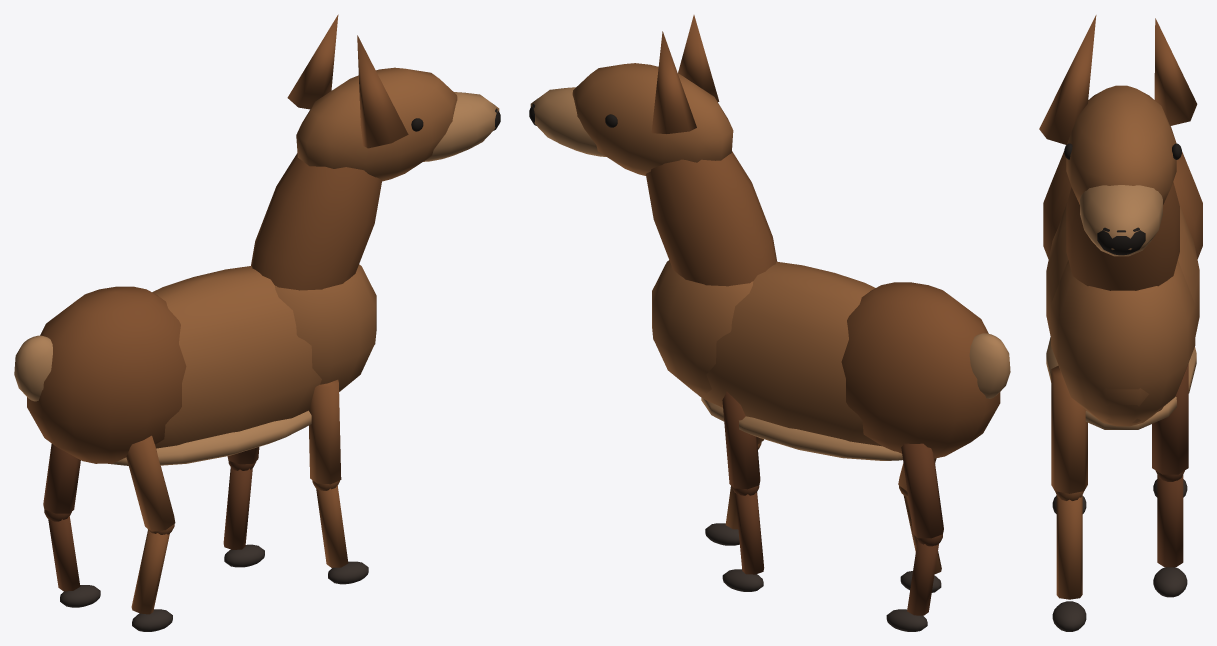
File: wild_deer.glb
The picture shows the model from 3 angles, left to right: view 1: azimuth 30°, elevation 25°; view 2: azimuth 150°, elevation 25°; view 3: azimuth 270°, elevation 25°; orthographic projection. The views are drawn at different scales.
Parts seen in each view (by area): view 1: Rump, Body, Neck, Head, Shoulders, Underbody, FrontNear_Upper, Ear_Near, RearNear_Upper, Muzzle, Ear_Far, RearFar_Upper (+9 smaller); view 2: Rump, Body, Neck, Head, Shoulders, Underbody, RearFar_Upper, Muzzle, Ear_Far, FrontFar_Upper, Tail, FrontFar_Lower (+4 smaller); view 3: Shoulders, Head, Neck, Muzzle, FrontNear_Upper, Body, Rump, Ear_Near, FrontNear_Lower, FrontFar_Upper, Ear_Far, FrontFar_Lower (+4 smaller).
Part boxes in pixels (x1=…): Rump: x1=27, y1=286, x2=186, y2=463; Body: x1=152, y1=266, x2=375, y2=448; Neck: x1=251, y1=153, x2=382, y2=290; Head: x1=296, y1=67, x2=457, y2=181; Shoulders: x1=275, y1=264, x2=376, y2=391; Underbody: x1=108, y1=410, x2=311, y2=465; FrontNear_Upper: x1=309, y1=379, x2=341, y2=484; Ear_Near: x1=357, y1=35, x2=408, y2=148; RearNear_Upper: x1=126, y1=435, x2=175, y2=531; Muzzle: x1=423, y1=92, x2=499, y2=161; Ear_Far: x1=287, y1=14, x2=338, y2=109; RearFar_Upper: x1=43, y1=444, x2=80, y2=513; Rump: x1=841, y1=282, x2=1000, y2=458; Body: x1=653, y1=261, x2=881, y2=446; Neck: x1=646, y1=151, x2=777, y2=286; Head: x1=572, y1=63, x2=733, y2=175; Shoulders: x1=652, y1=260, x2=753, y2=393; Underbody: x1=701, y1=397, x2=902, y2=460; RearFar_Upper: x1=901, y1=443, x2=943, y2=538; Muzzle: x1=530, y1=87, x2=606, y2=156; Ear_Far: x1=651, y1=31, x2=696, y2=133; FrontFar_Upper: x1=722, y1=391, x2=760, y2=489; Tail: x1=969, y1=333, x2=1010, y2=398; FrontFar_Lower: x1=735, y1=492, x2=764, y2=574; Shoulders: x1=1051, y1=260, x2=1195, y2=426; Head: x1=1066, y1=85, x2=1176, y2=204; Neck: x1=1066, y1=182, x2=1179, y2=290; Muzzle: x1=1080, y1=185, x2=1162, y2=256; FrontNear_Upper: x1=1051, y1=365, x2=1087, y2=493; Body: x1=1046, y1=203, x2=1199, y2=423; Rump: x1=1043, y1=151, x2=1202, y2=258; Ear_Near: x1=1039, y1=15, x2=1096, y2=144; FrontNear_Lower: x1=1056, y1=495, x2=1082, y2=599; FrontFar_Upper: x1=1152, y1=363, x2=1188, y2=474; Ear_Far: x1=1154, y1=18, x2=1197, y2=125; FrontFar_Lower: x1=1157, y1=475, x2=1183, y2=567.
Size of the model in its own units: 4.1 by 4.38 by 1.04.
